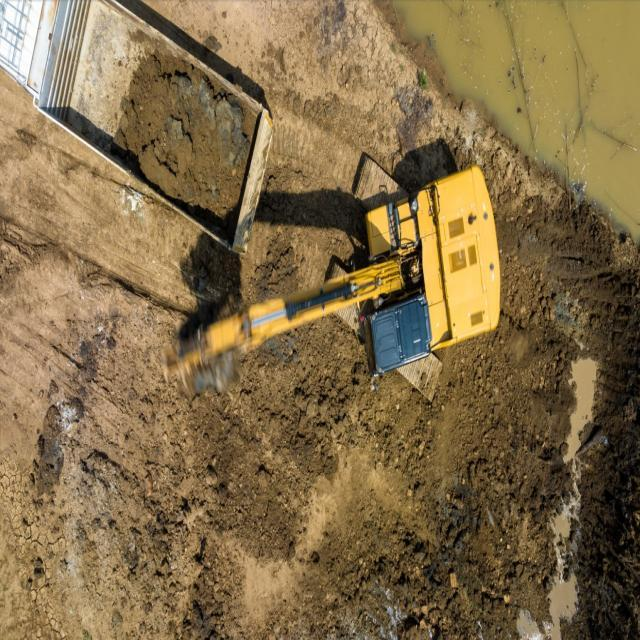excavator: (164, 165, 501, 396)
